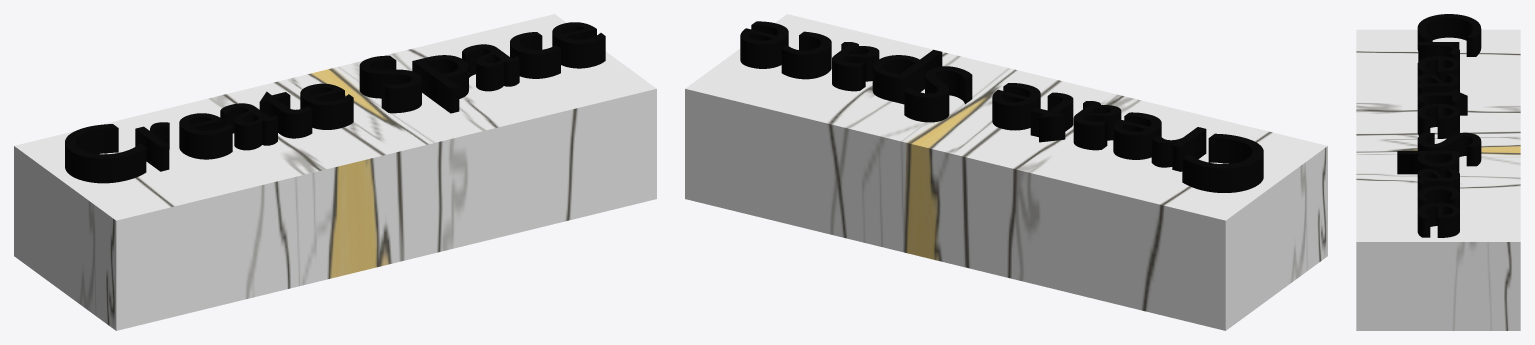
File: createspacebutton.glb
3 views of the same model, side by side, from view 1: azimuth 30°, elevation 25°; view 2: azimuth 150°, elevation 25°; view 3: azimuth 270°, elevation 25° (orthographic). The views are drawn at different scales.
Parts seen in each view (by area): view 1: Cube, Text; view 2: Cube, Text; view 3: Cube, Text.
Boxes of the visible parts, left/top/right/bottom form: Cube: left=14, top=14, right=656, bottom=330; Text: left=65, top=22, right=605, bottom=183; Cube: left=685, top=14, right=1327, bottom=330; Text: left=740, top=21, right=1263, bottom=192; Cube: left=1356, top=29, right=1520, bottom=330; Text: left=1397, top=14, right=1481, bottom=237.
Bounding box in the file's own units: 1.38 × 0.3309 × 0.4528.
2 materials, 1 textured.
